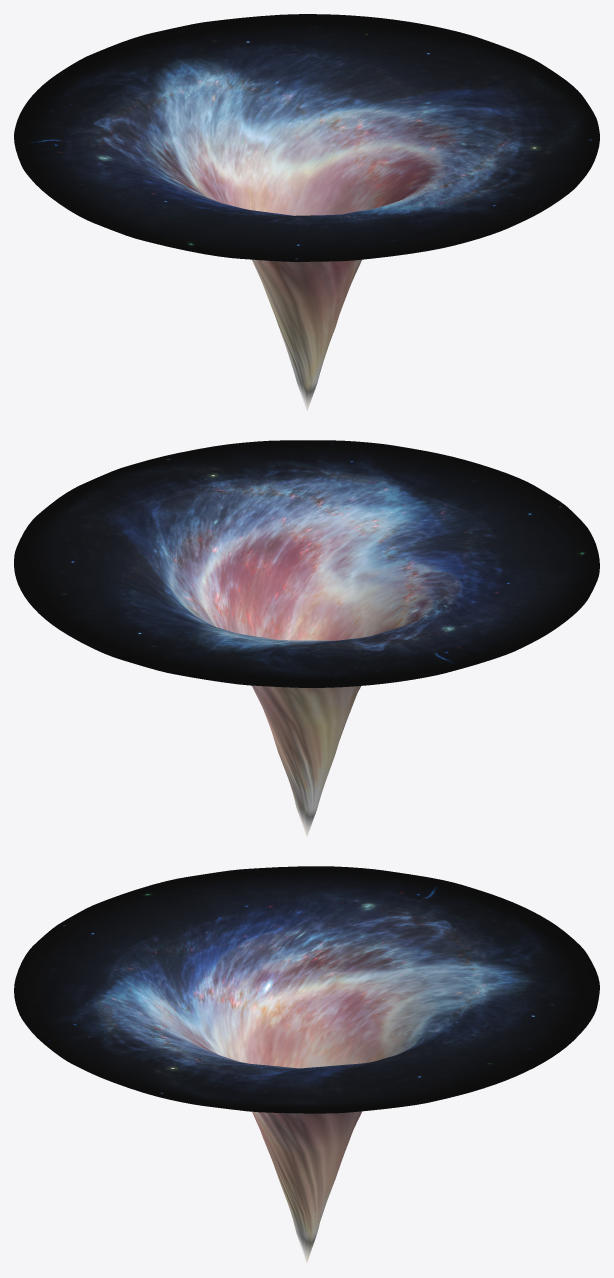
File: galaxy_HD.glb
The picture shows the model from 3 angles, top to bottom: view 1: azimuth 30°, elevation 25°; view 2: azimuth 150°, elevation 25°; view 3: azimuth 270°, elevation 25°; orthographic projection.
Parts seen in each view (by area): view 1: Warp_0; view 2: Warp_0; view 3: Warp_0.
Part boxes in pixels (bbox=[...]): Warp_0: bbox=[14, 14, 599, 411]; Warp_0: bbox=[14, 440, 599, 836]; Warp_0: bbox=[14, 866, 599, 1262].
Bounding box in the file's own units: 1.88 × 0.9759 × 1.89.
Materials: 1 (1 with a texture image).
